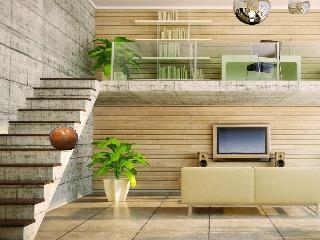potato: (50, 126, 78, 150)
